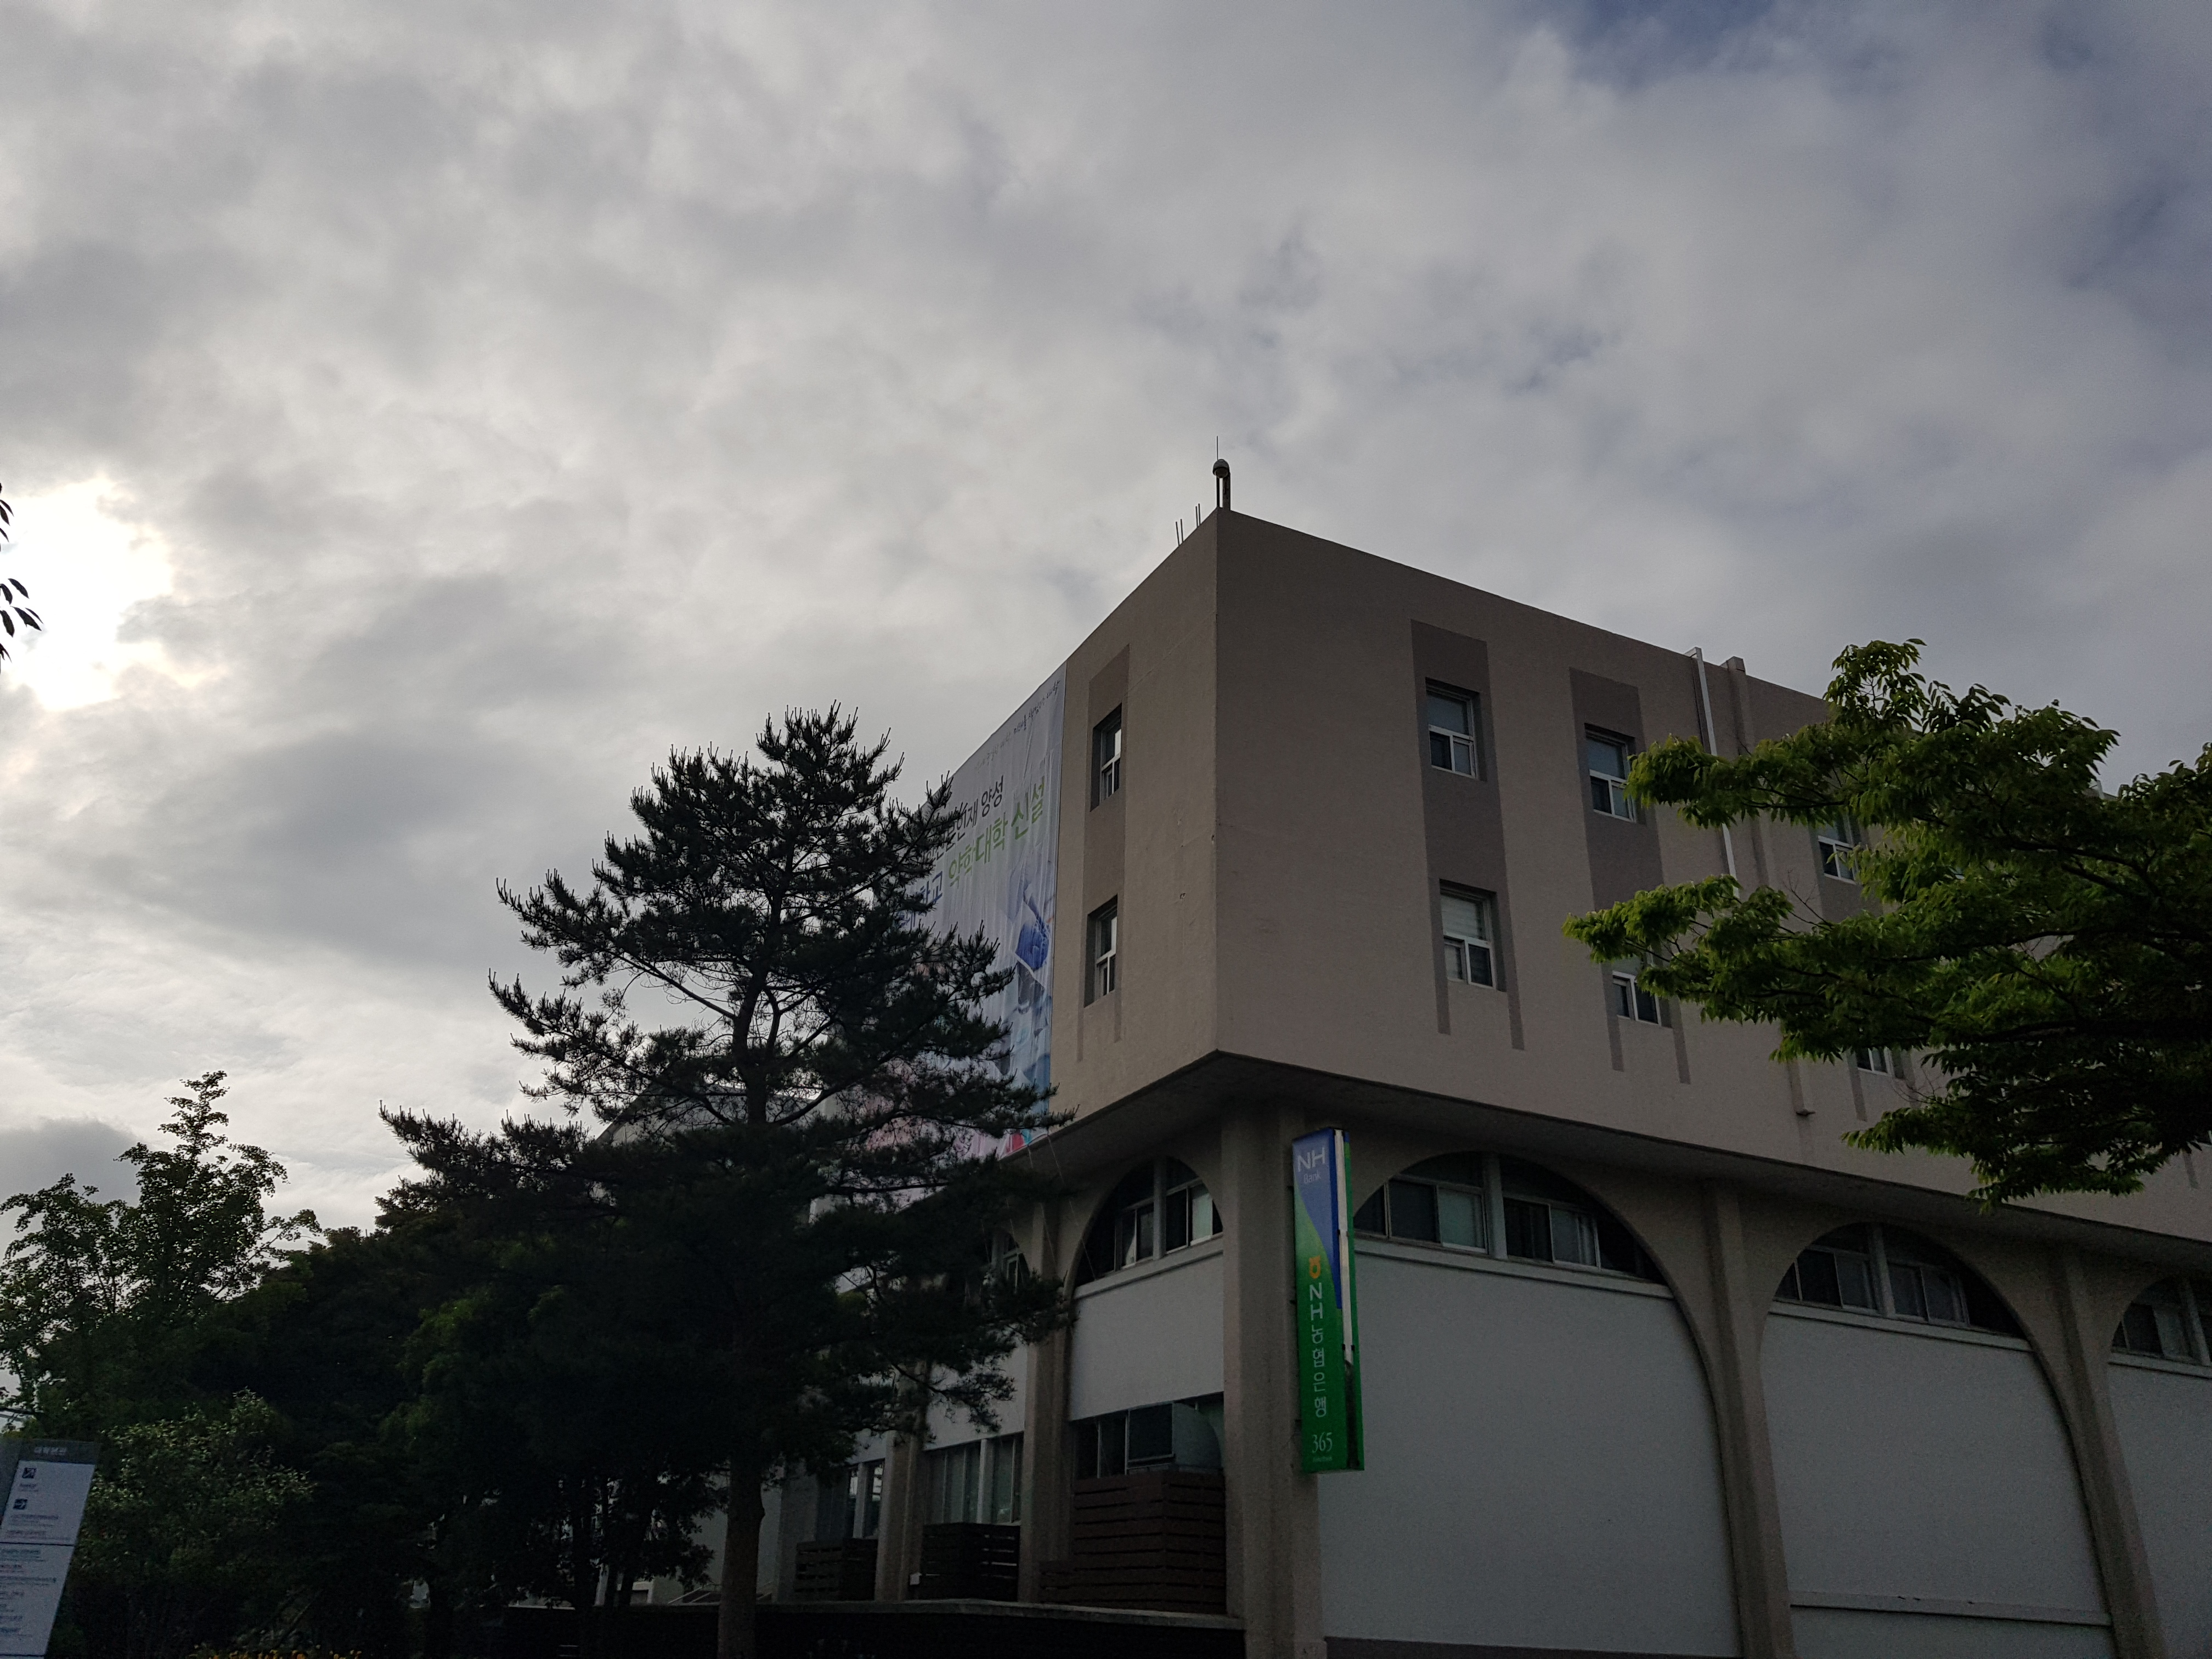Main Building of University: (862, 450, 2191, 1633)
